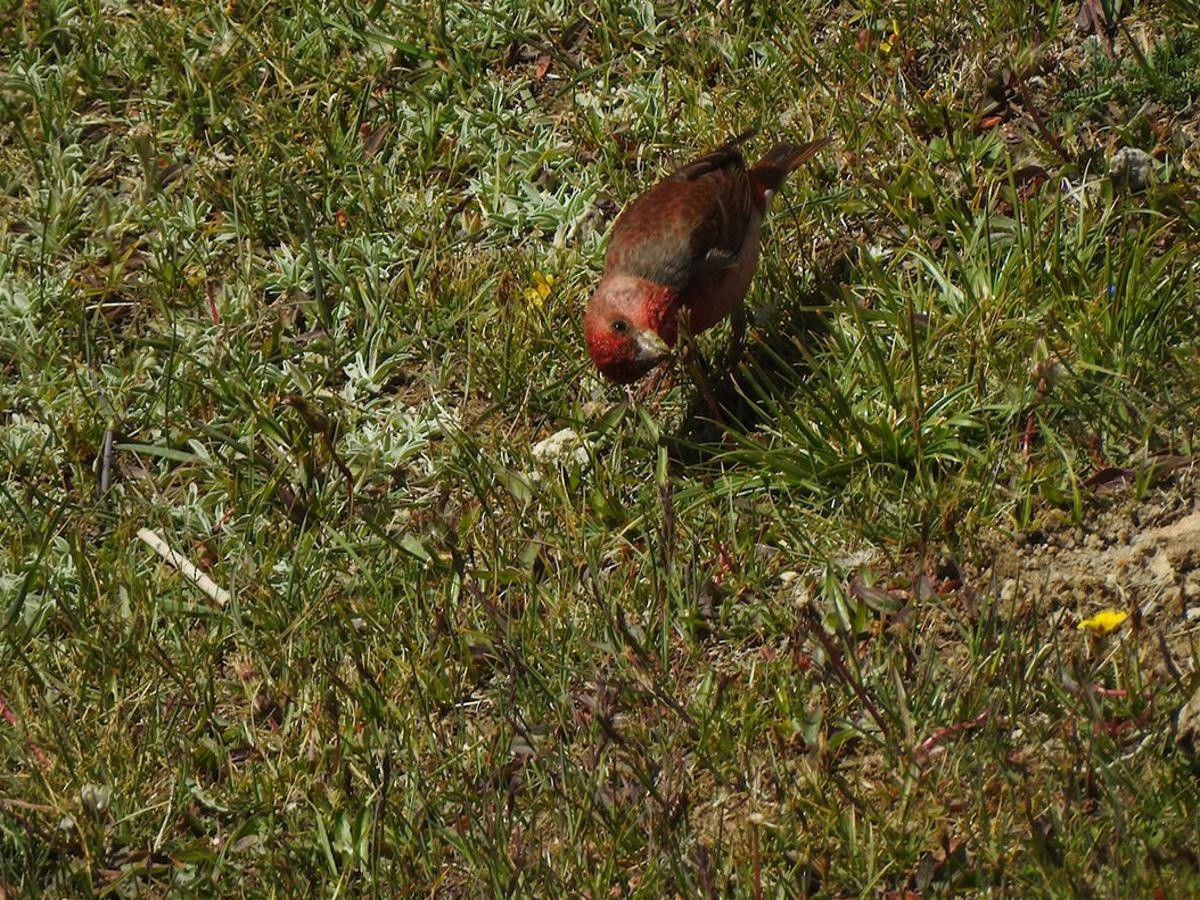rosefinch: (558, 183, 813, 433)
